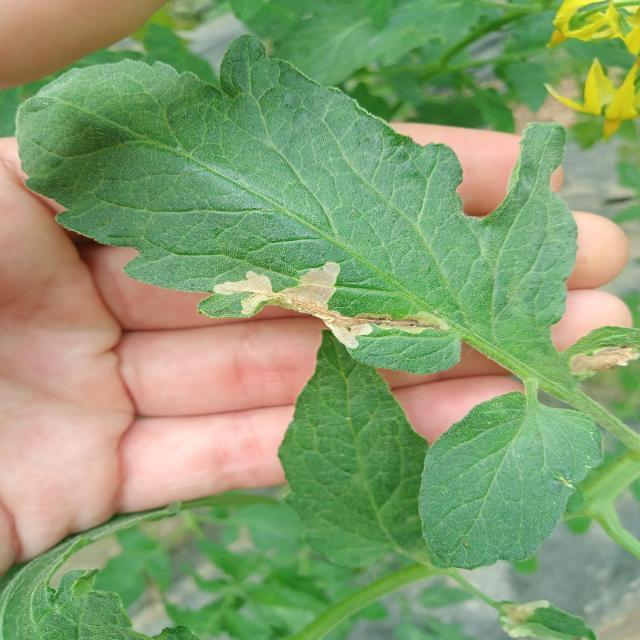Tuta absoluta: (209, 231, 460, 374), (568, 340, 640, 378)
